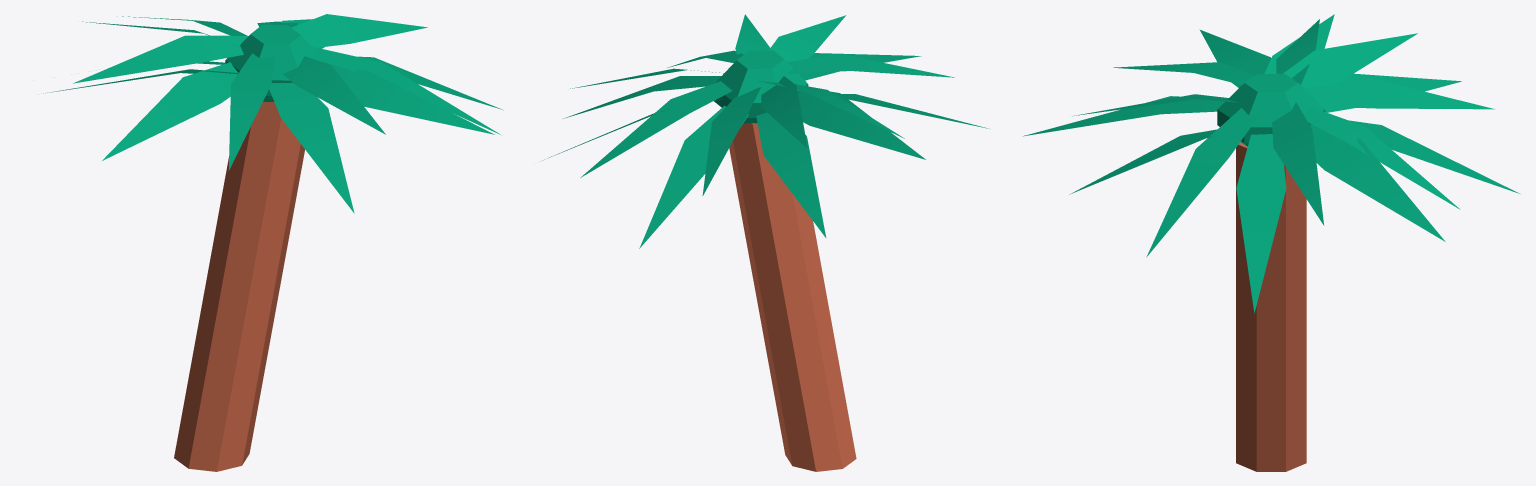
The model's file is tree.fbx.
The picture shows the model from 3 angles, left to right: view 1: azimuth 30°, elevation 25°; view 2: azimuth 150°, elevation 25°; view 3: azimuth 270°, elevation 25°; orthographic projection. The views are drawn at different scales.
Visible parts, largest first — view 1: trunk_skew (×4), plant_smallLeaf (×9), leafs_cone; view 2: plant_smallLeaf (×13), trunk_skew (×4), leafs_cone; view 3: plant_smallLeaf (×16), trunk_skew (×4), leafs_cone.
Boxes of the visible parts, <box> form: trunk_skew (×4): <box>174,101,304,471</box>; plant_smallLeaf (×9): <box>73,14,503,213</box>; leafs_cone: <box>225,24,325,101</box>; plant_smallLeaf (×13): <box>563,14,989,248</box>; trunk_skew (×4): <box>729,123,856,471</box>; leafs_cone: <box>714,50,808,123</box>; plant_smallLeaf (×16): <box>1023,14,1519,313</box>; trunk_skew (×4): <box>1236,142,1306,471</box>; leafs_cone: <box>1217,74,1325,146</box>.
Size of the model in its own units: 25.57 by 23.18 by 25.76.
